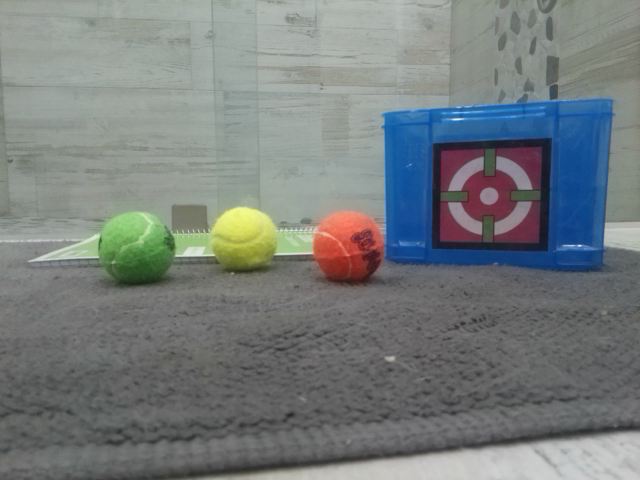drop-bin: (431, 137, 551, 252)
green-ball: (96, 210, 176, 286)
orange-ball: (312, 210, 385, 284)
yellow-ball: (209, 205, 279, 273)
